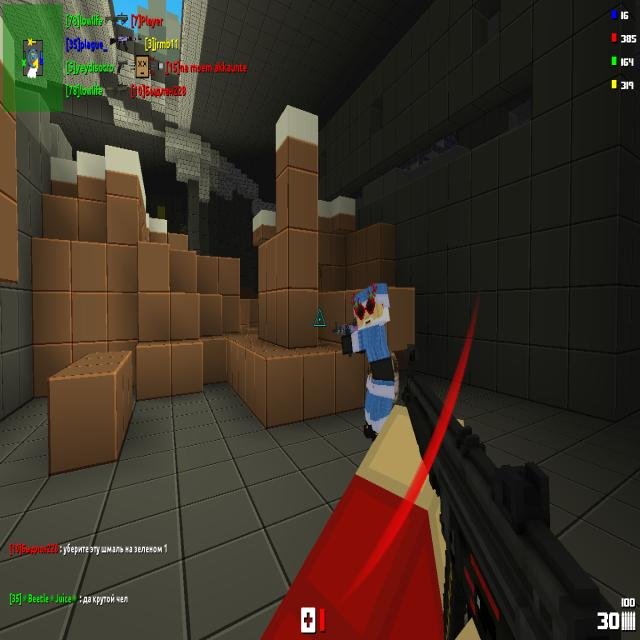enemy: (346, 284, 395, 442)
